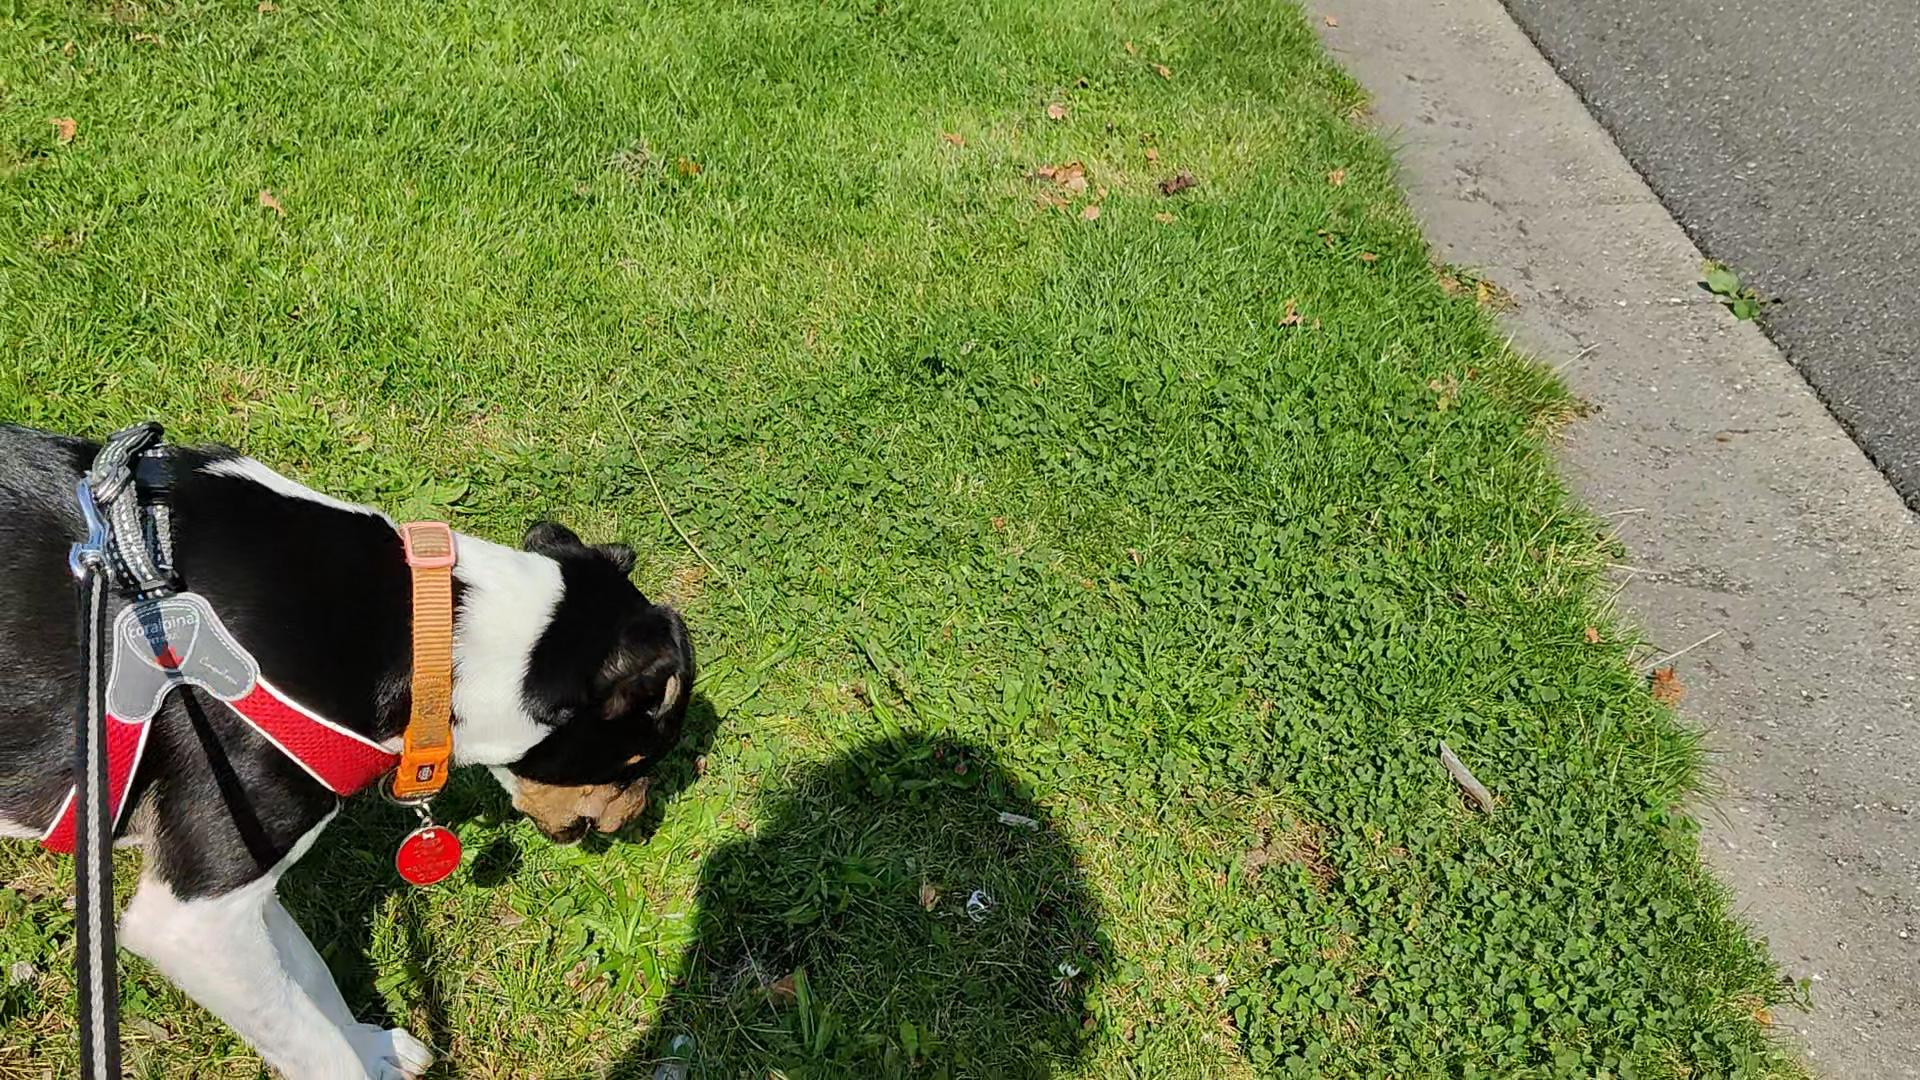Dog: (0, 410, 712, 1079)
